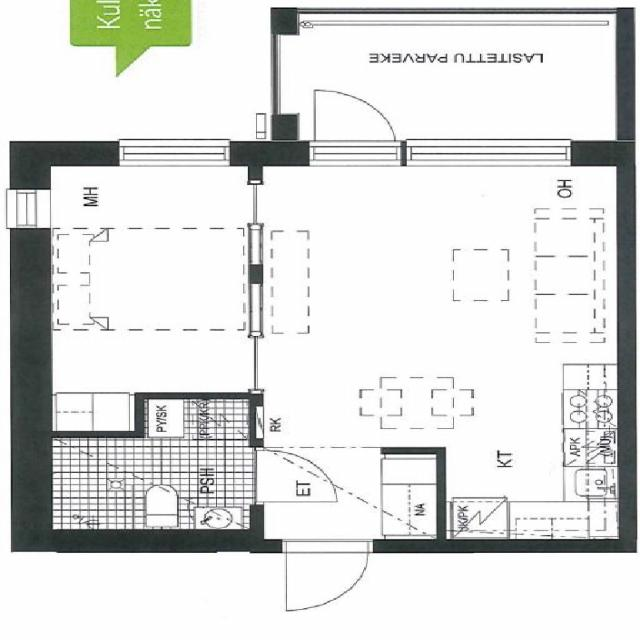door: (314, 83, 397, 165), (286, 539, 368, 610), (250, 450, 336, 502)
